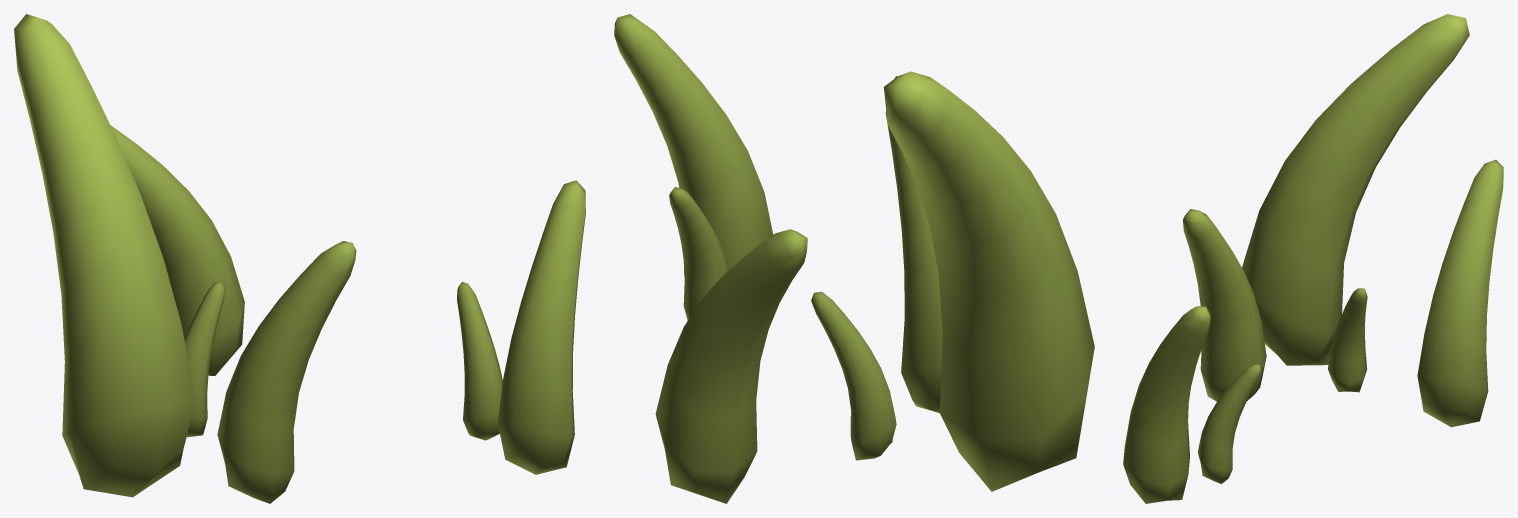
Rendered from Grass.fbx.
The picture shows the model from 3 angles, left to right: view 1: azimuth 30°, elevation 25°; view 2: azimuth 150°, elevation 25°; view 3: azimuth 270°, elevation 25°; orthographic projection. The views are drawn at different scales.
Parts seen in each view (by area): view 1: pCube105; view 2: pCube105; view 3: pCube105.
Boxes of the visible parts, x1,y1,x2,y2 form: pCube105: [14, 14, 585, 503]; pCube105: [614, 14, 1094, 503]; pCube105: [1123, 14, 1503, 503].
Bounding box in the file's own units: 1 × 0.8611 × 0.8462.
1 material, 1 textured.
